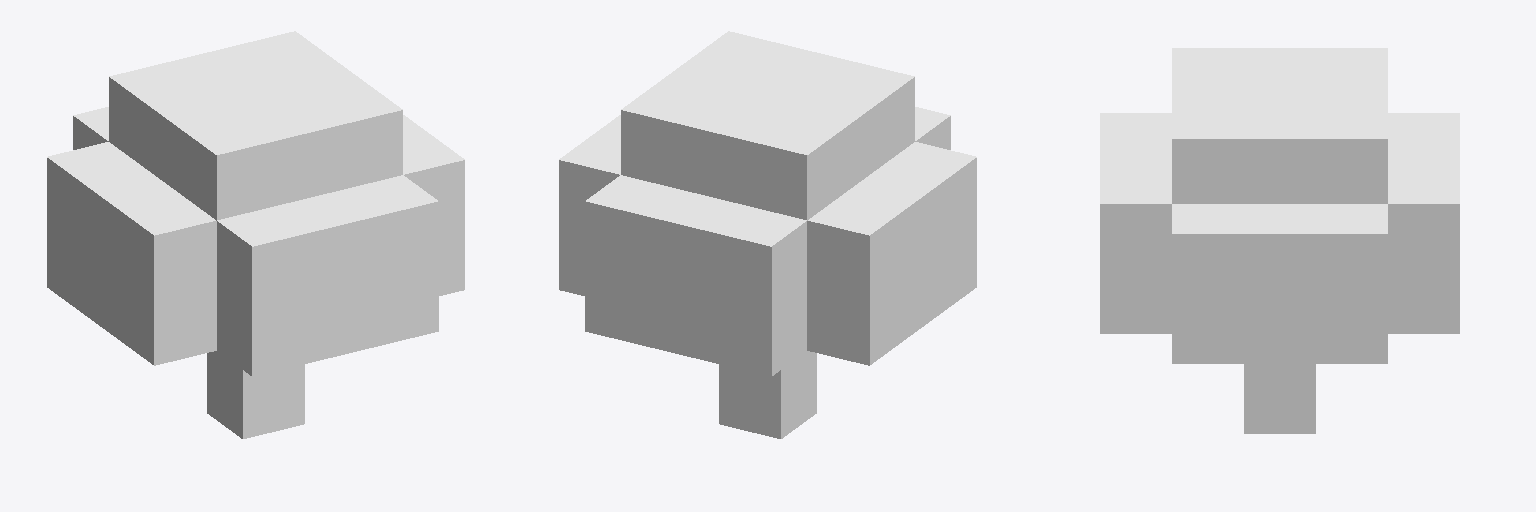
File: redshroom.obj
The picture shows the model from 3 angles: view 1: azimuth 30°, elevation 25°; view 2: azimuth 150°, elevation 25°; view 3: azimuth 270°, elevation 25°; orthographic projection.
Parts seen in each view (by area): view 1: Flower; view 2: Flower; view 3: Flower.
Boxes of the visible parts, x1=… form: Flower: x1=47, y1=31, x2=464, y2=438; Flower: x1=559, y1=31, x2=976, y2=438; Flower: x1=1100, y1=48, x2=1459, y2=433.
Bounding box in the file's own units: 5 × 5 × 5.